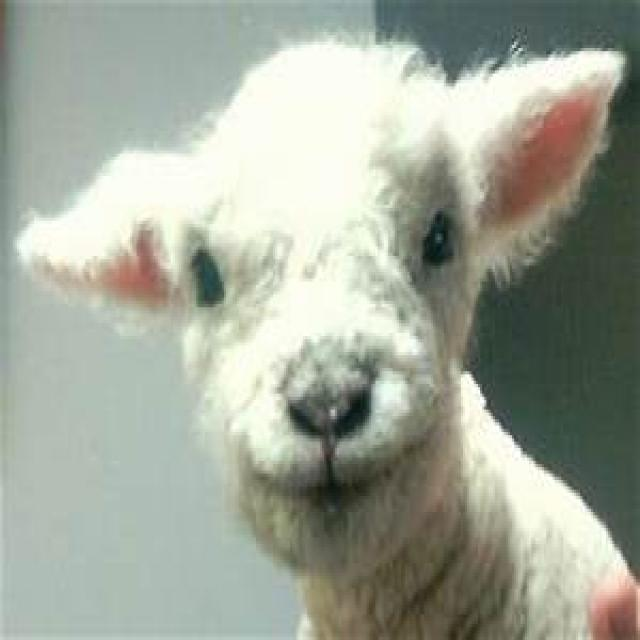animal: (14, 34, 640, 640)
